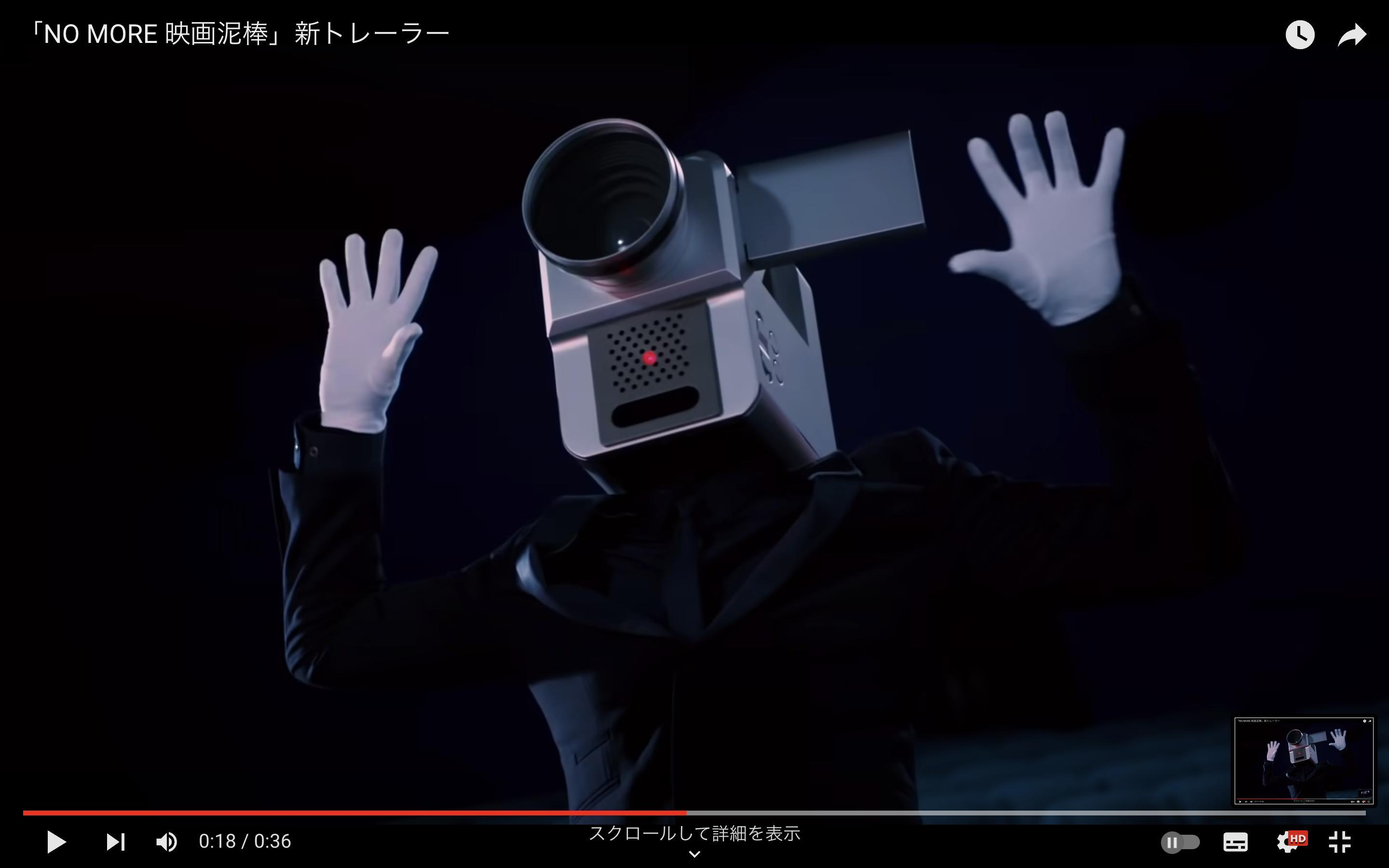no more kid: (493, 111, 951, 504)
